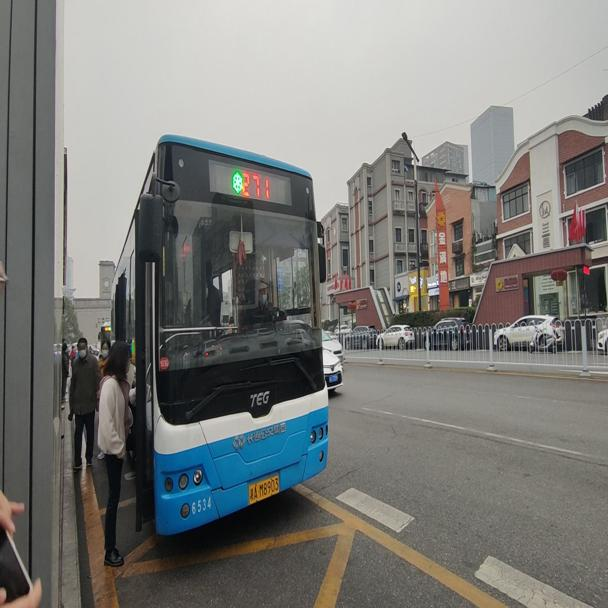bus: (107, 131, 330, 540)
screen: (240, 166, 276, 199)
